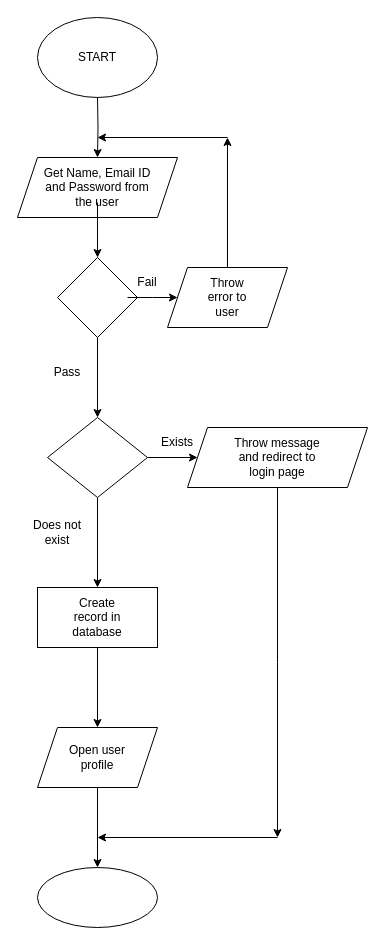
The diagram is 385 pixels wide and 945 high, and some of its shapes have lost their labels. The shapes that lost their labels are listed below. From the top down, each one's centre as x and y in pixels, then its label:
At point 97,297: "Validate data".
At point 97,457: "Check if email ID exists".
At point 97,897: "END".
